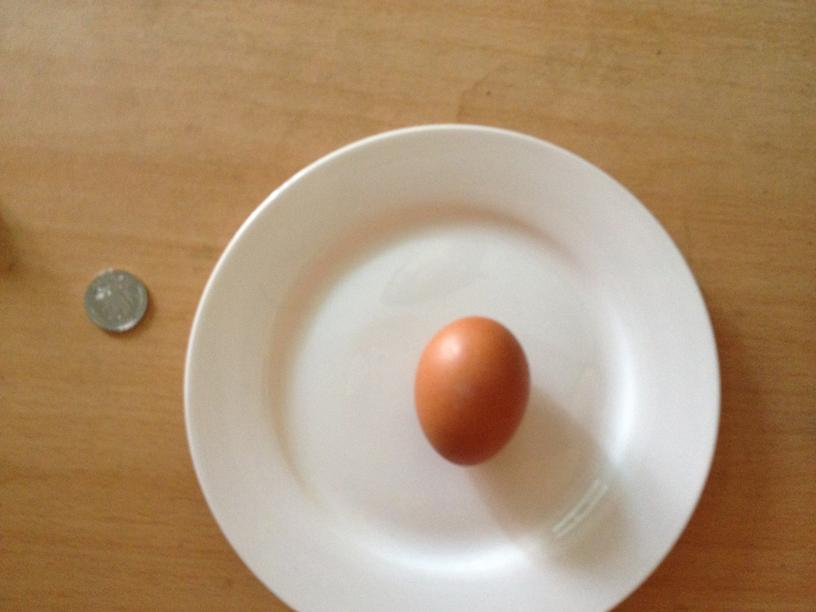coin: (80, 269, 150, 333)
egg: (415, 308, 533, 466)
